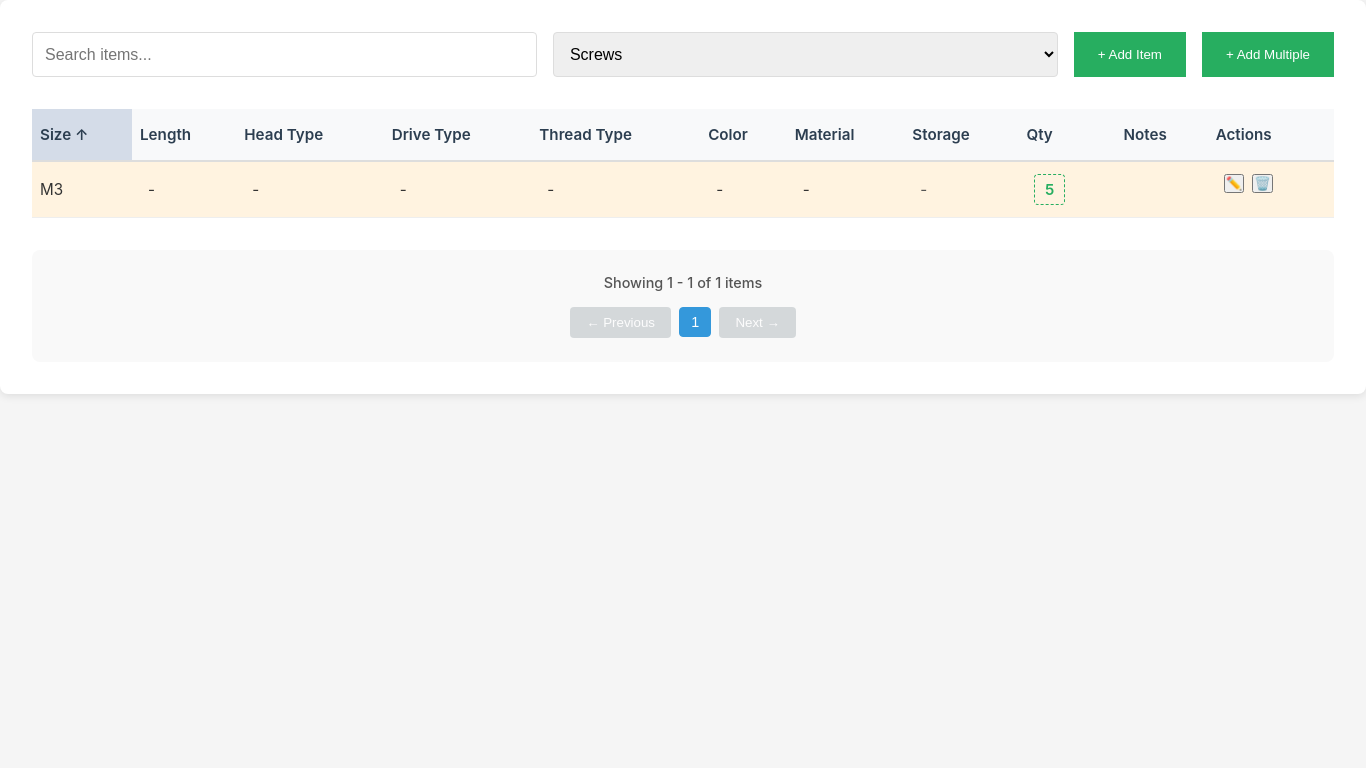
Test case: deleting an item › names the item in an in-page dialog and sends nothing until confirmed
The image size is (1366, 768).
Click the button titled "Delete": x=1263, y=184 x1=1252 y1=174 x2=1273 y2=193
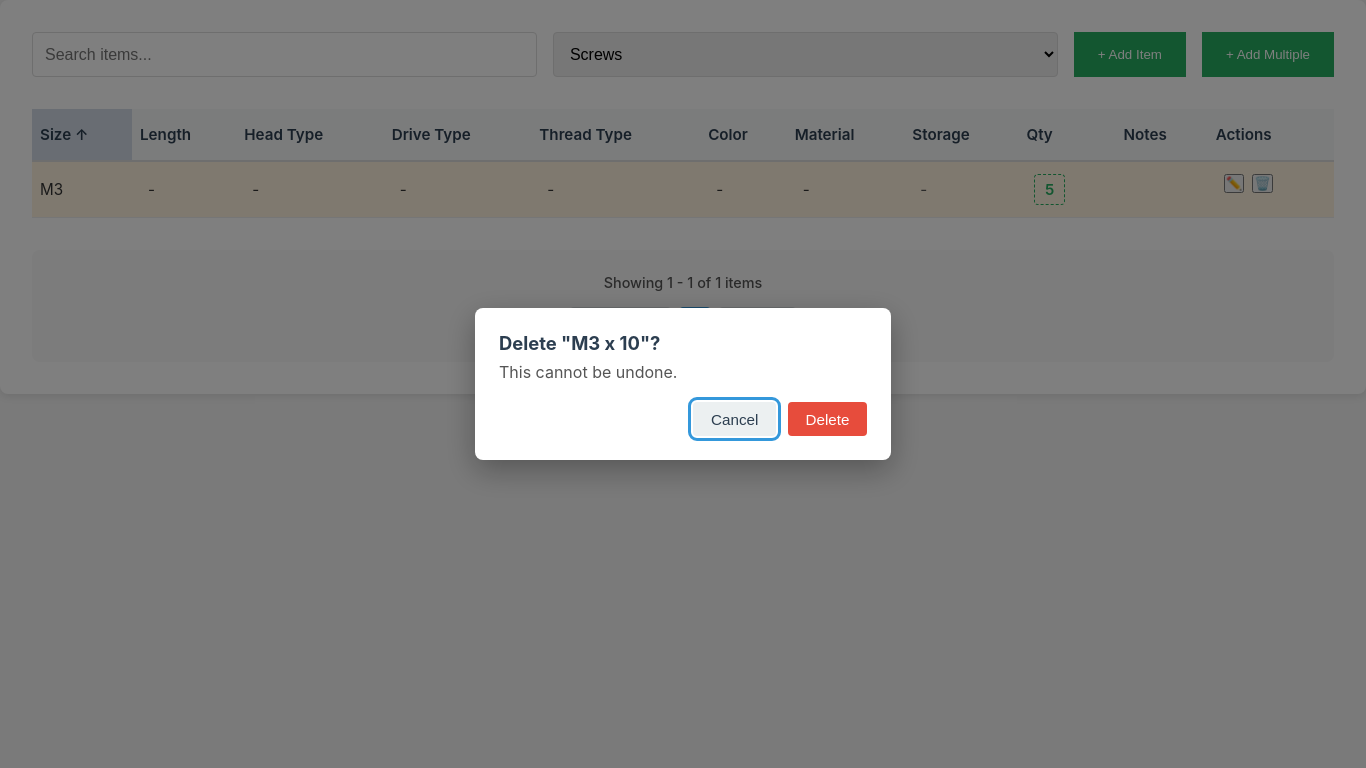
expect the dialog with class "confirm-box" shows "Delete \"M3 x 10\"?": met, box x1=499 y1=332 x2=660 y2=354
